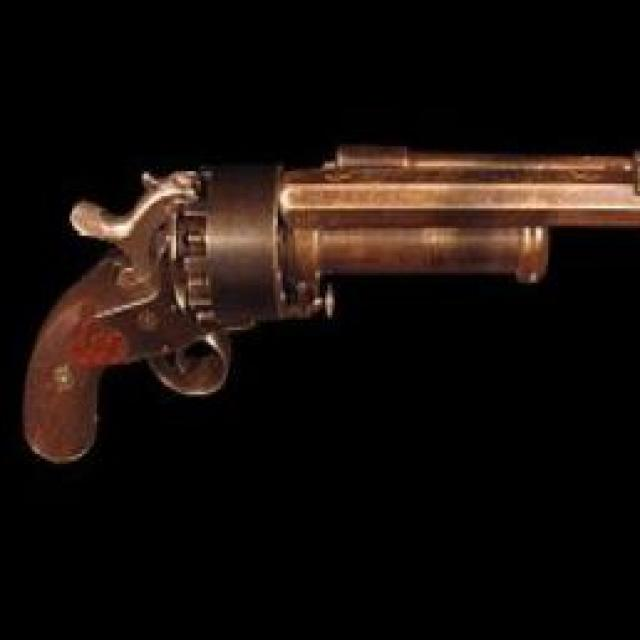pistol: (22, 119, 640, 469)
